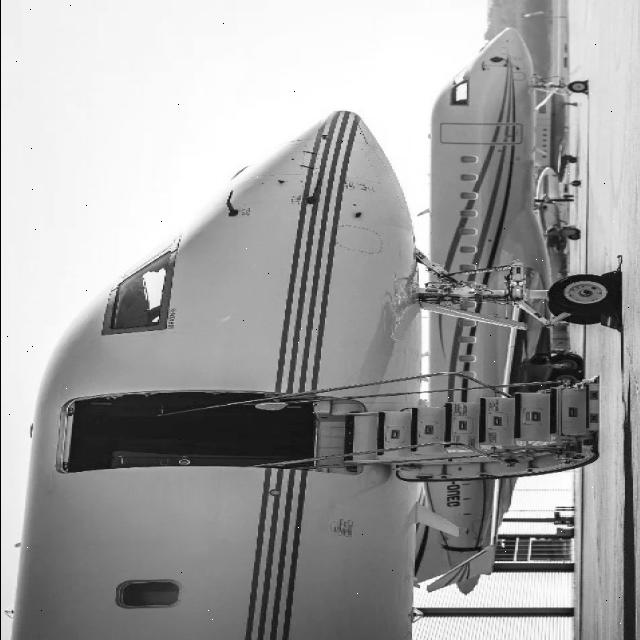jet: (0, 88, 640, 640), (359, 16, 599, 625)
